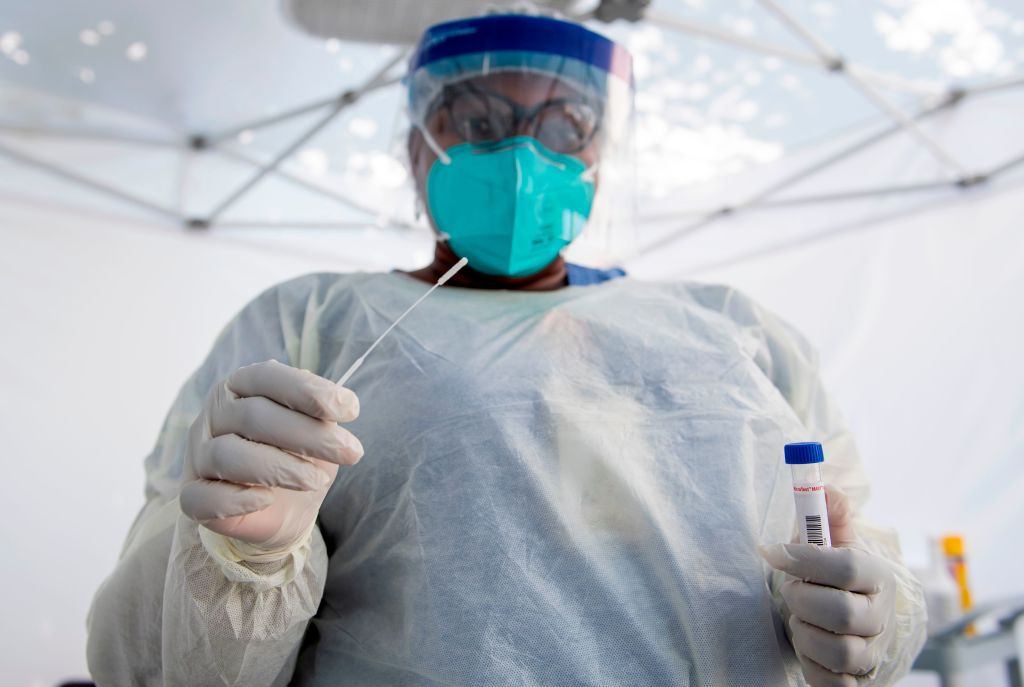Coverall: (92, 264, 882, 687)
Face_Shield: (390, 10, 636, 301)
Gloves: (174, 356, 370, 563), (756, 481, 920, 687)
with_mask: (434, 74, 598, 282)
